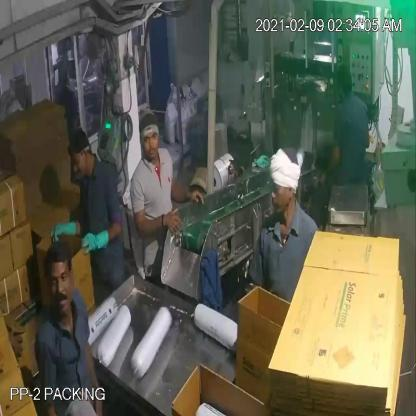glove: (49, 211, 82, 249), (77, 226, 114, 258)
no_glove: (124, 197, 186, 248), (166, 176, 210, 213), (316, 139, 346, 187)
